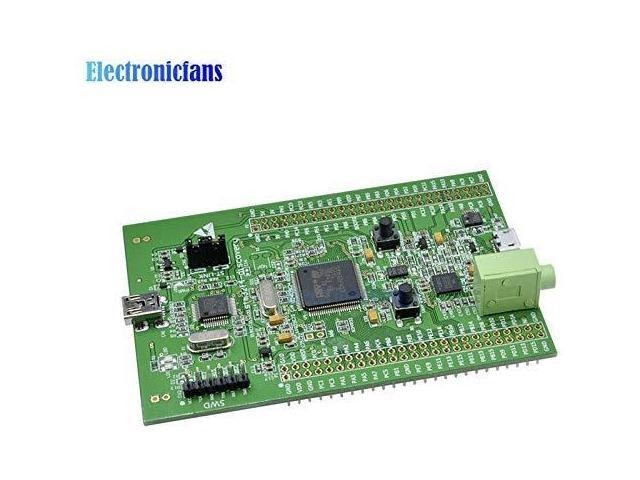STM32F4-DISC: (69, 159, 592, 436)
